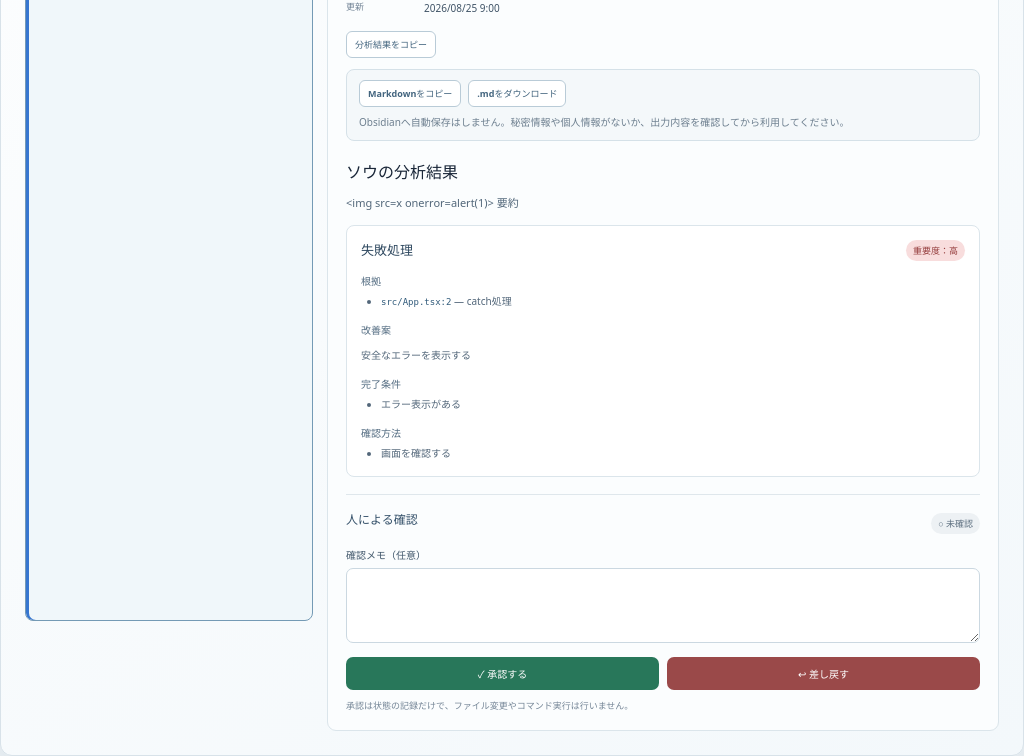
ProjectAnalysisSection › restores analysis history and supports approval, copy, delete confirmation and cancellation
(page scrolled)
Type "人が確認" into the text box labelled "確認メモ（任意）" at (663, 606), box [346,568,980,643]
Click the button "✓ 承認する" at (502, 674), box [346,657,659,690]
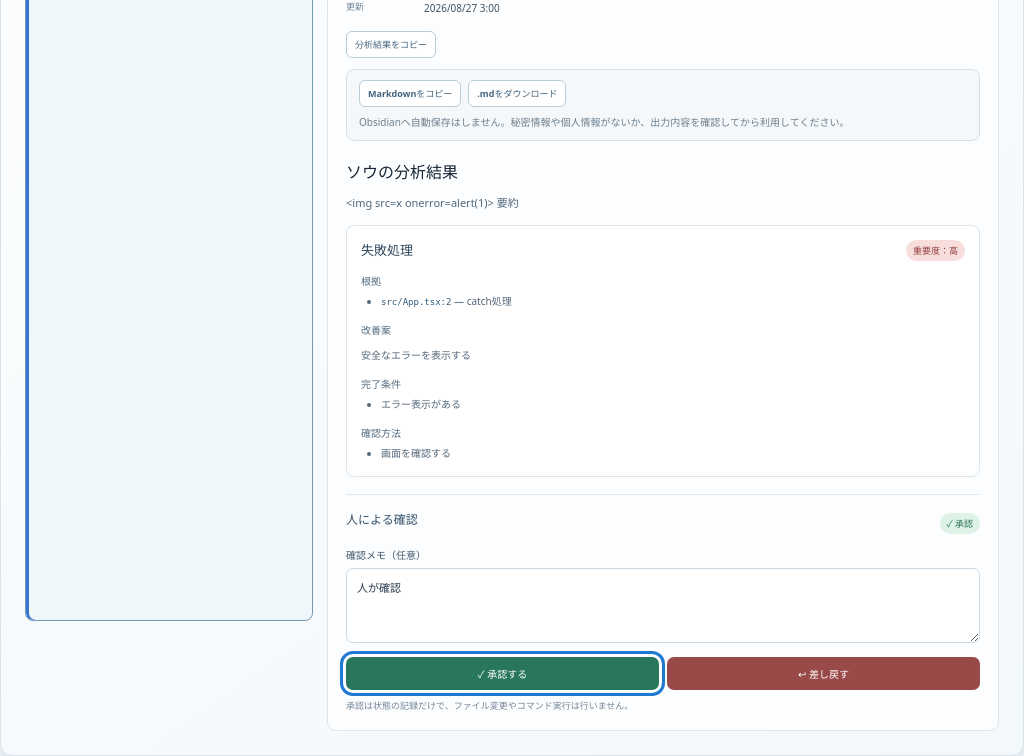
Click the button "分析結果をコピー" at (391, 45), box [346,31,436,58]
(page scrolled)
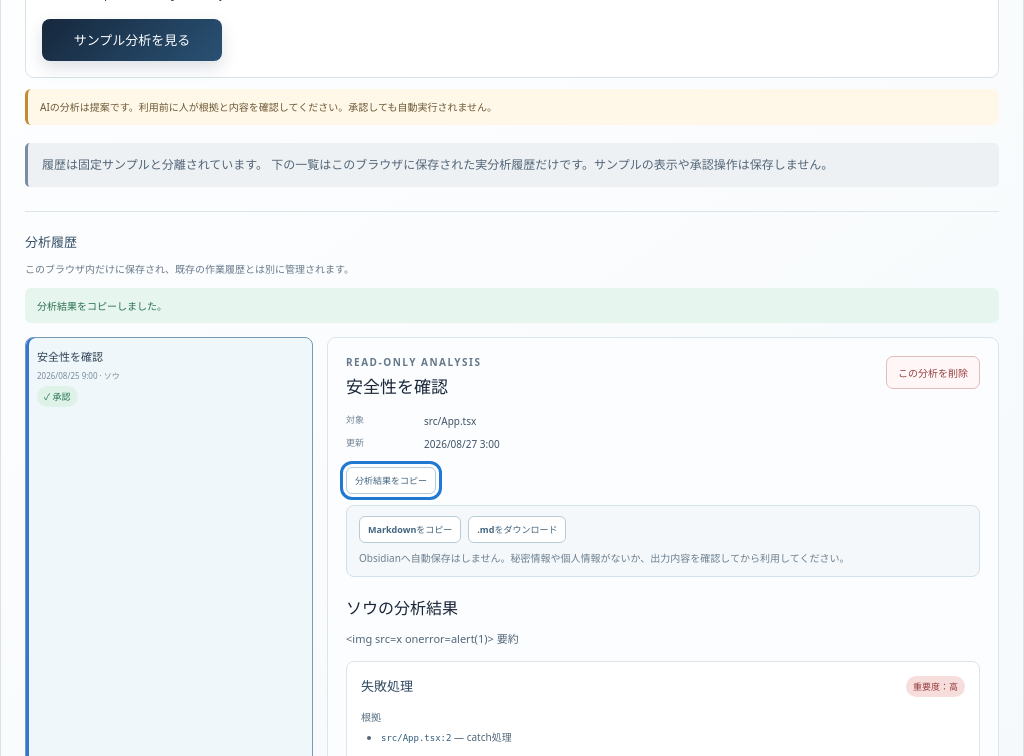
Click the button "この分析を削除" at (933, 372), box [886,356,980,389]
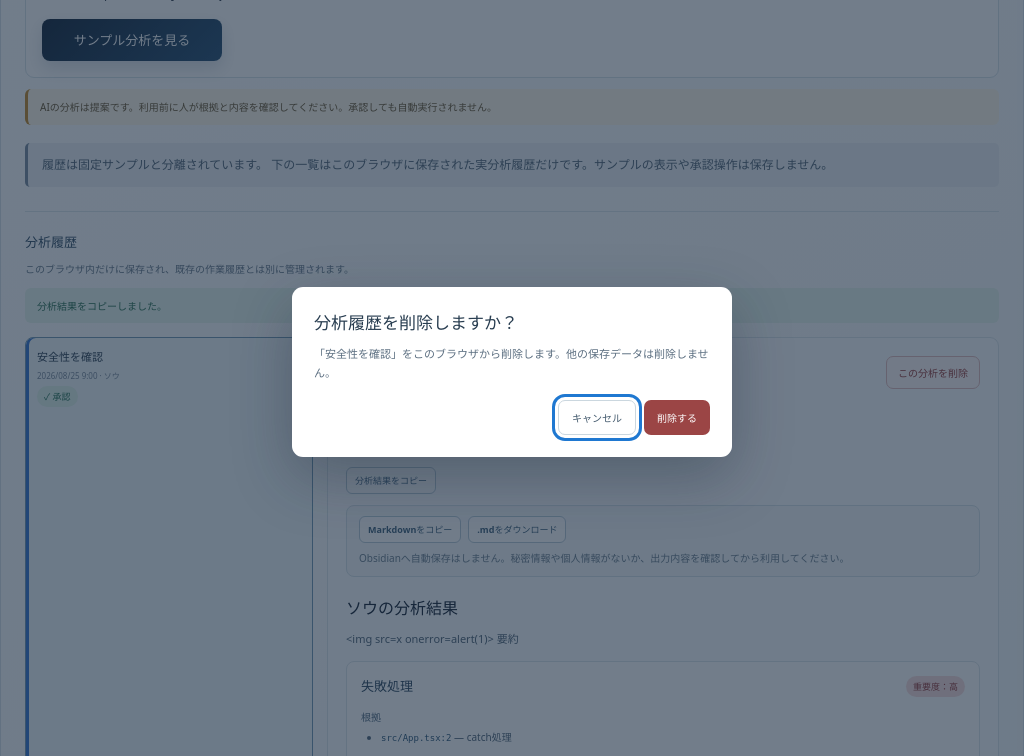
Expected: the dialog is shown, [292,287,732,457]
Click the button "キャンセル" at (597, 418), box [558,400,636,435]
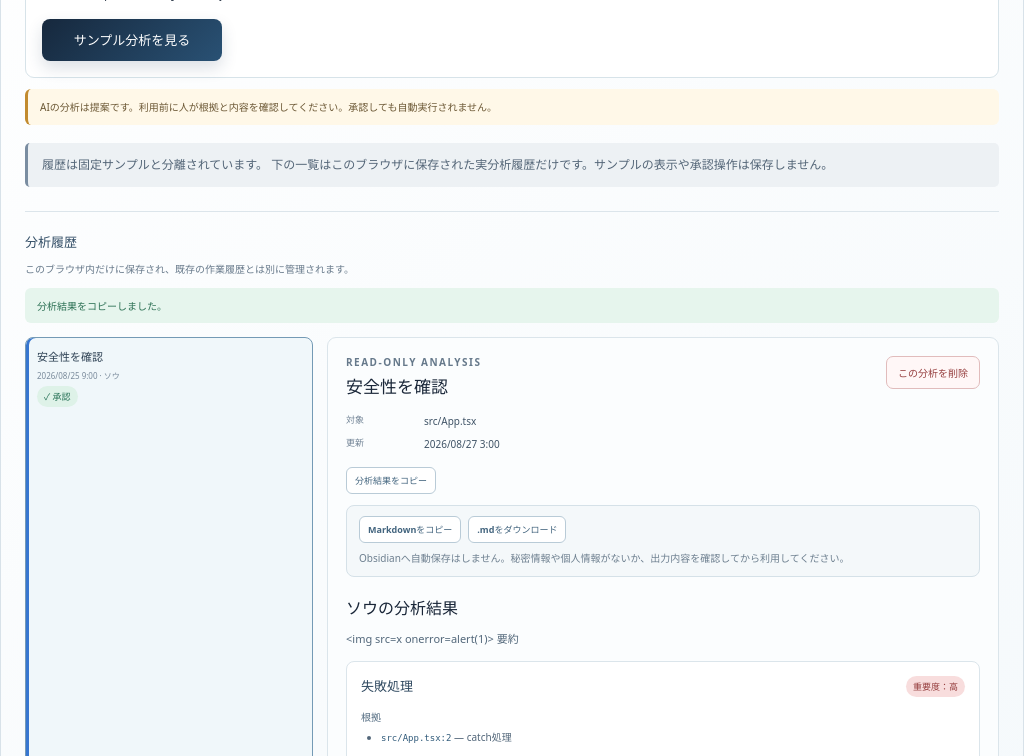
Expected: the dialog is gone
Click the button "この分析を削除" at (933, 372), box [886,356,980,389]
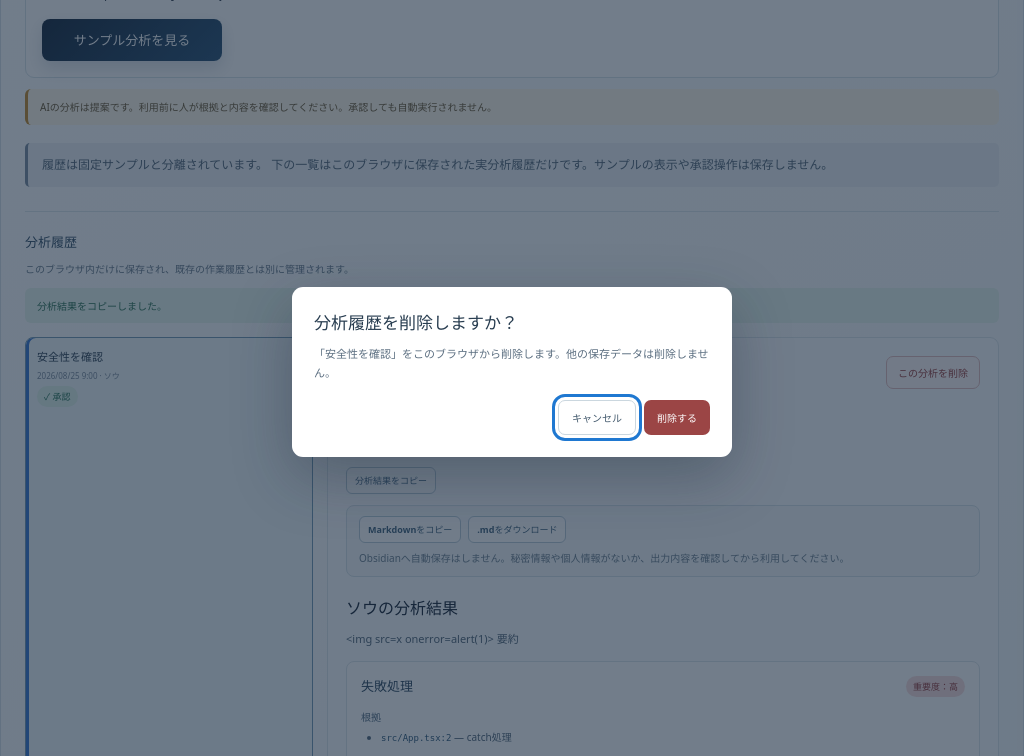
Click the button "削除する" at (677, 418), box [644,400,710,435]
(page scrolled)
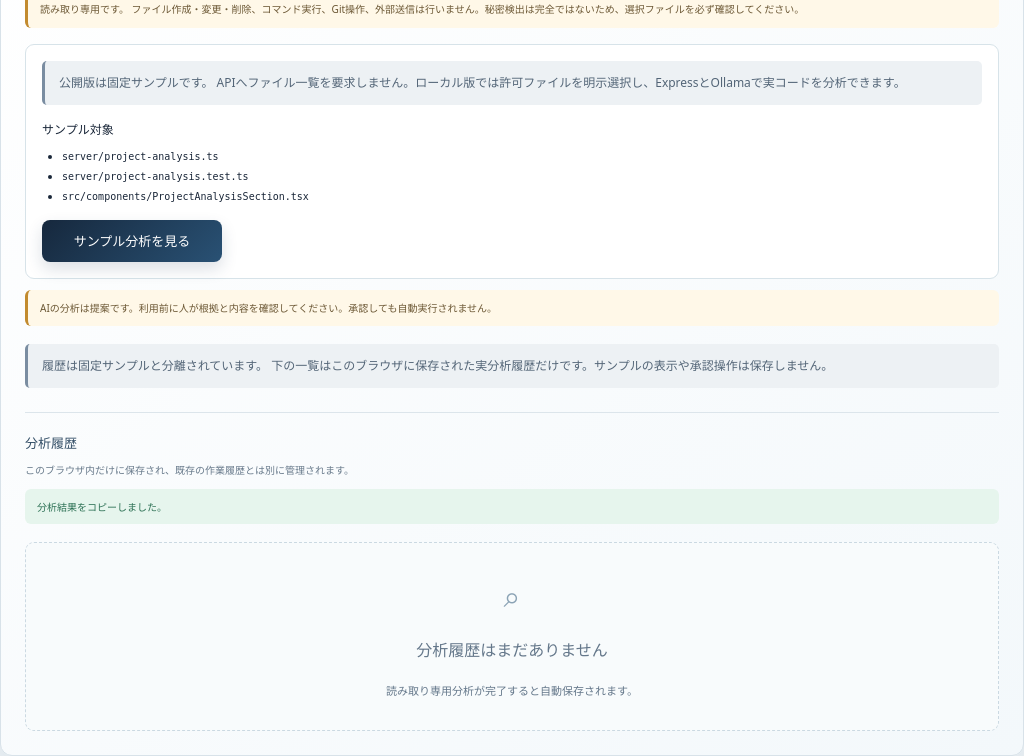
Expected: the heading "分析履歴はまだありません" is shown, [416,639,608,661]
